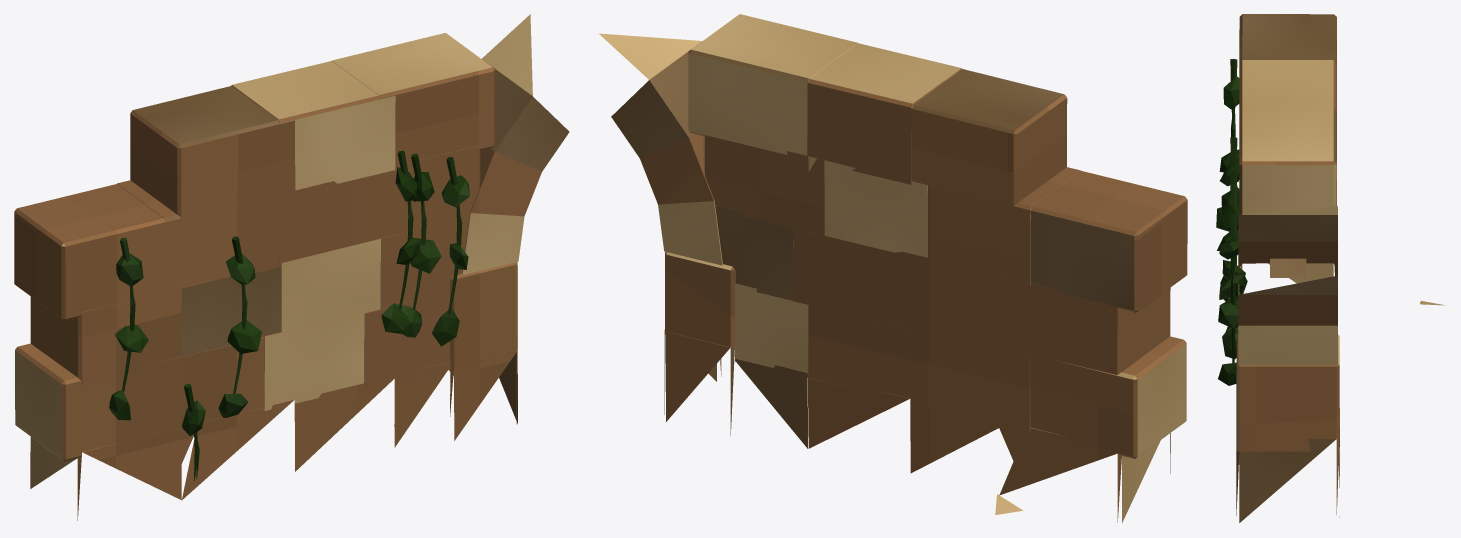
The model's file is floating_earth_wall_left.obj.
3 renders of one model, left to right at view 1: azimuth 30°, elevation 25°; view 2: azimuth 150°, elevation 25°; view 3: azimuth 270°, elevation 25°, orthographic. The views are drawn at different scales.
Visible parts, largest first — view 1: FloatingEarthWallLeft; view 2: FloatingEarthWallLeft; view 3: FloatingEarthWallLeft.
Boxes of the visible parts, <box> form: FloatingEarthWallLeft: <box>14,14,569,520</box>; FloatingEarthWallLeft: <box>598,14,1187,522</box>; FloatingEarthWallLeft: <box>1216,14,1444,522</box>.
Size of the model in its own units: 4.9 by 3.27 by 1.94.
